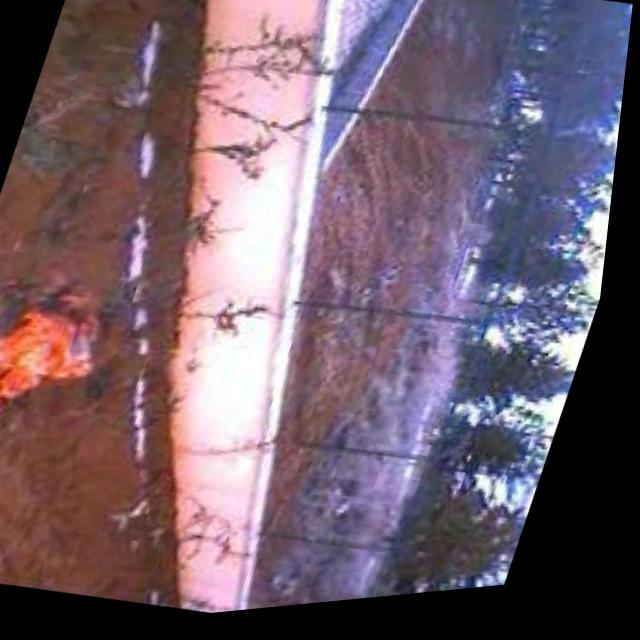fire: (0, 270, 120, 469)
